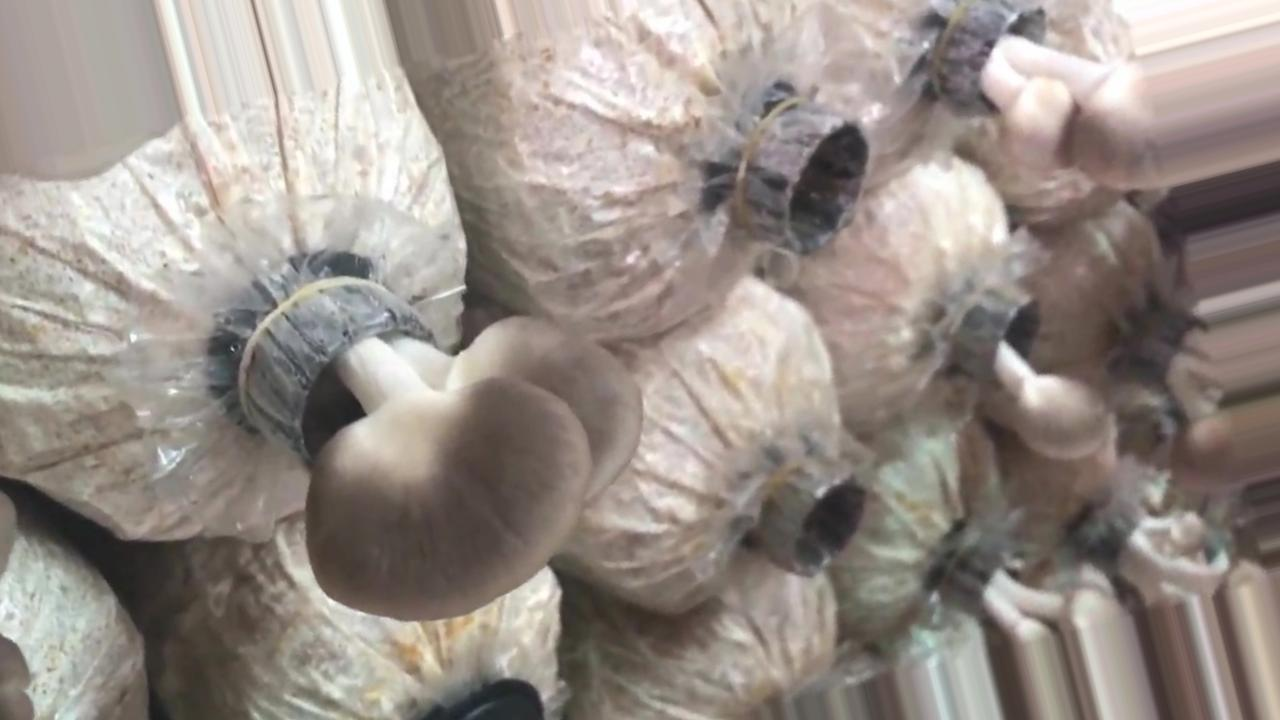nam: (260, 275, 643, 621), (941, 1, 1280, 193), (966, 282, 1113, 459)
